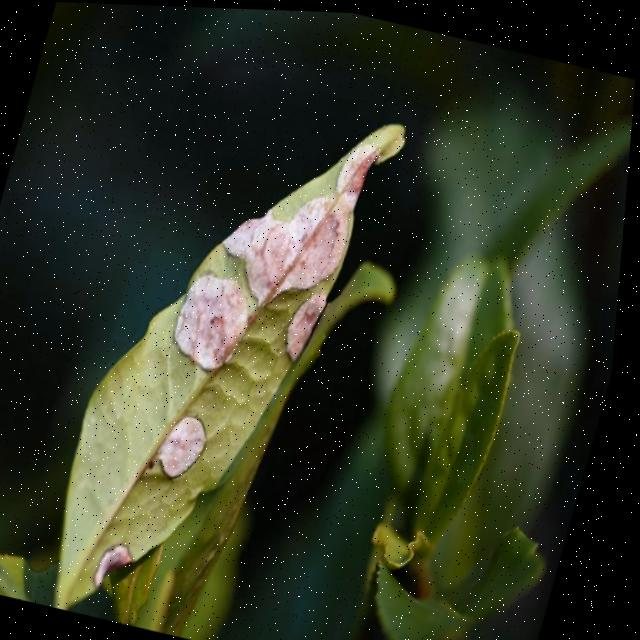Tea cake: (220, 172, 360, 288), (170, 263, 268, 388), (158, 407, 225, 479), (286, 284, 336, 372), (97, 533, 159, 598), (340, 132, 388, 201)
